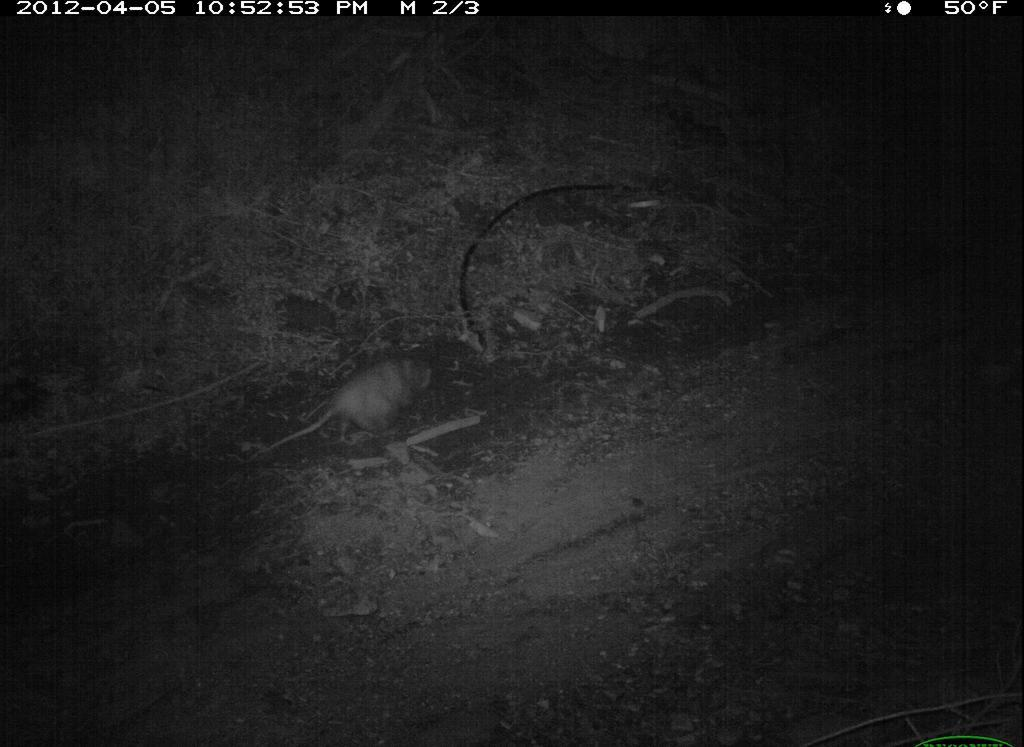opossum: (244, 341, 451, 469)
